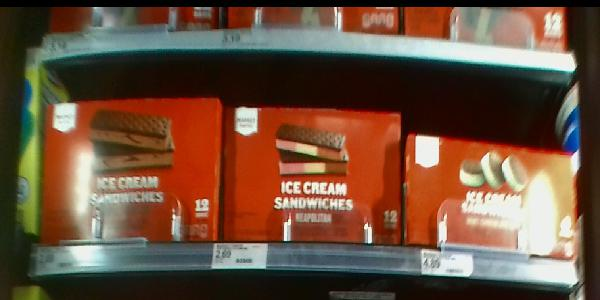icecream: (222, 108, 401, 242), (43, 104, 218, 241), (409, 132, 579, 256)
